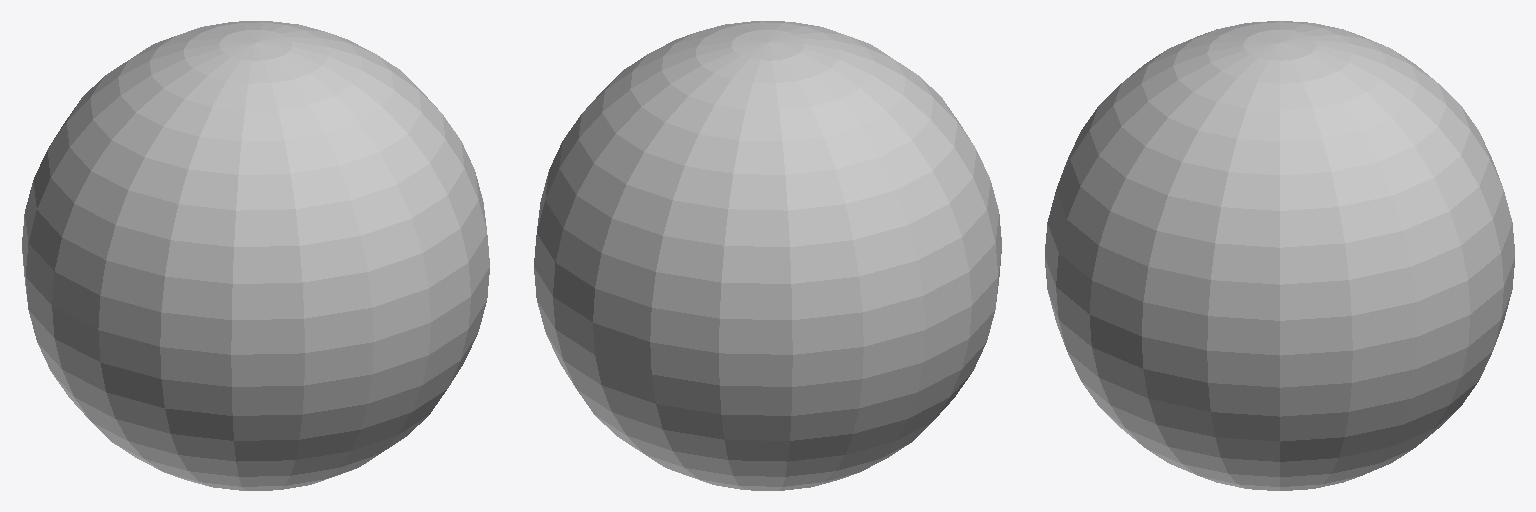
Rendered from sphereMaya.obj.
3 views of the same model, side by side, from view 1: azimuth 30°, elevation 25°; view 2: azimuth 150°, elevation 25°; view 3: azimuth 270°, elevation 25° (orthographic).
Parts seen in each view (by area): view 1: pSphere1; view 2: pSphere1; view 3: pSphere1.
Boxes of the visible parts, x1,y1,x2,y2 form: pSphere1: [22, 21, 489, 490]; pSphere1: [534, 21, 1001, 490]; pSphere1: [1045, 21, 1514, 490].
Size of the model in its own units: 0.329 by 0.329 by 0.329.